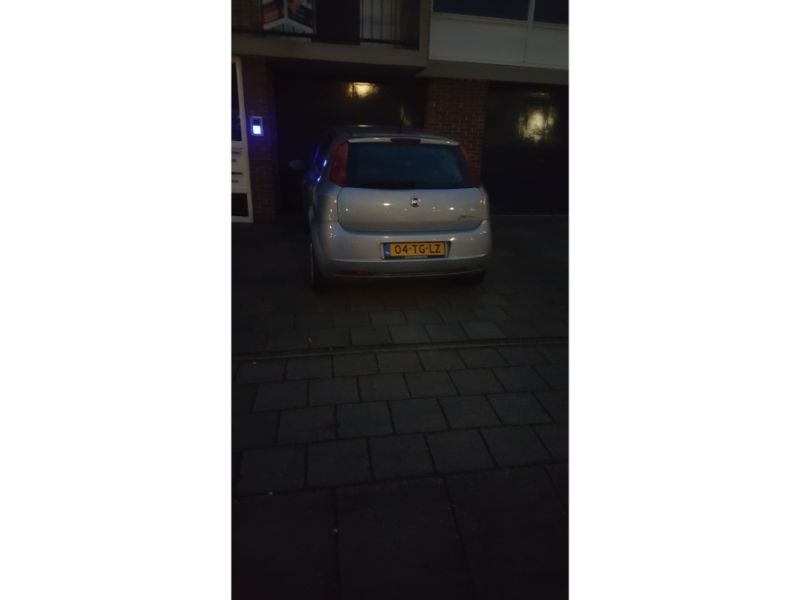kenteken: (382, 236, 452, 259)
